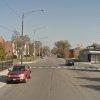Car: (8, 58, 30, 89)
